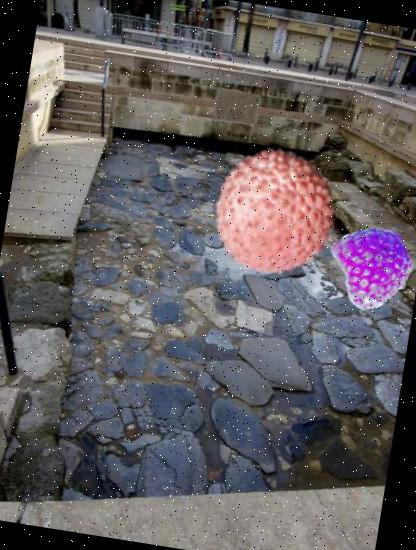Lychee: (200, 136, 350, 286)
Raspberry: (328, 220, 416, 312)
